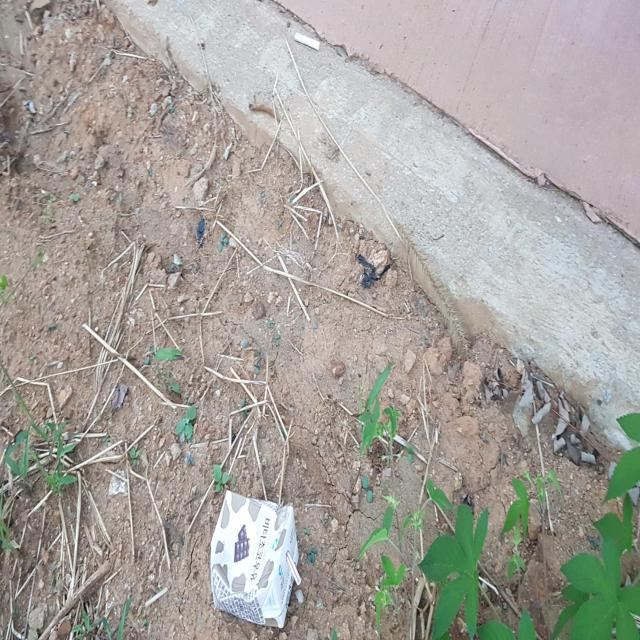paperpack: (210, 490, 299, 628)
